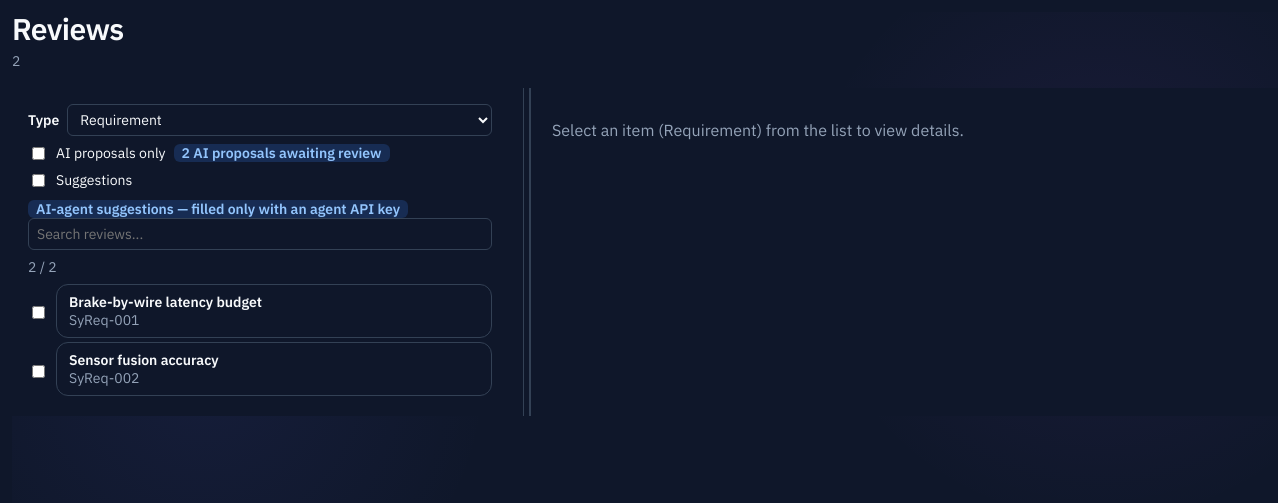
Test: ReviewsView (REQ-144 smoke tests) › [REQ-144] selecting a requirement loads transitions and enables Approve/Reject
Expected: the text "Brake-by-wire latency budget" is shown, [69, 292, 262, 310]
Click the button with test id "review-list-item-req-001": (166, 302) [56, 284, 492, 338]
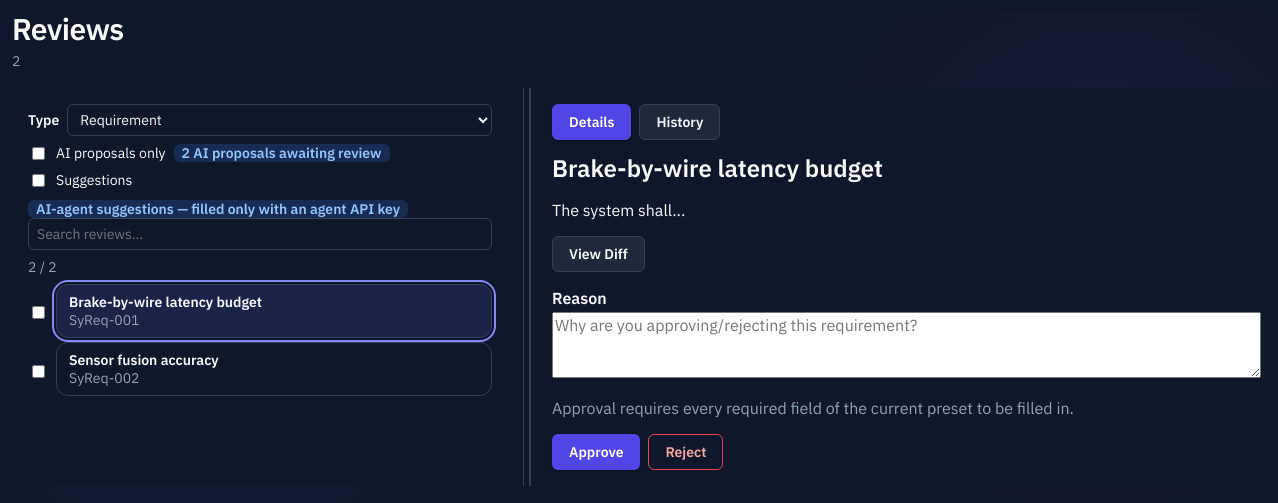
Result: the button with test id "review-approve-btn" is enabled at [552, 434, 640, 470]
Result: the button with test id "review-reject-btn" is enabled at [648, 434, 724, 470]
